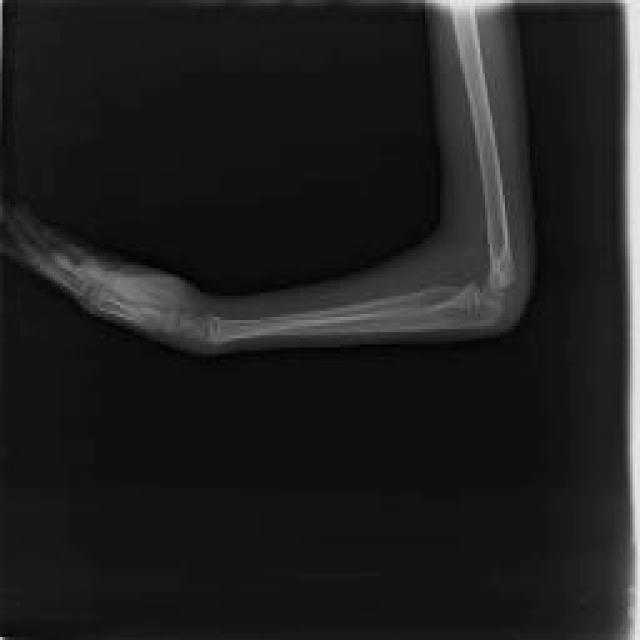normal: (11, 3, 516, 344)
